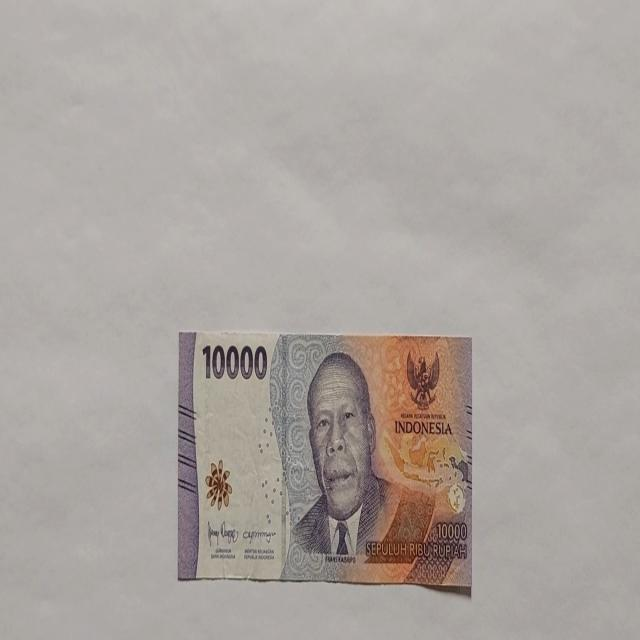sepuluh ribu rupiah: (176, 328, 474, 590), (277, 348, 437, 584)
